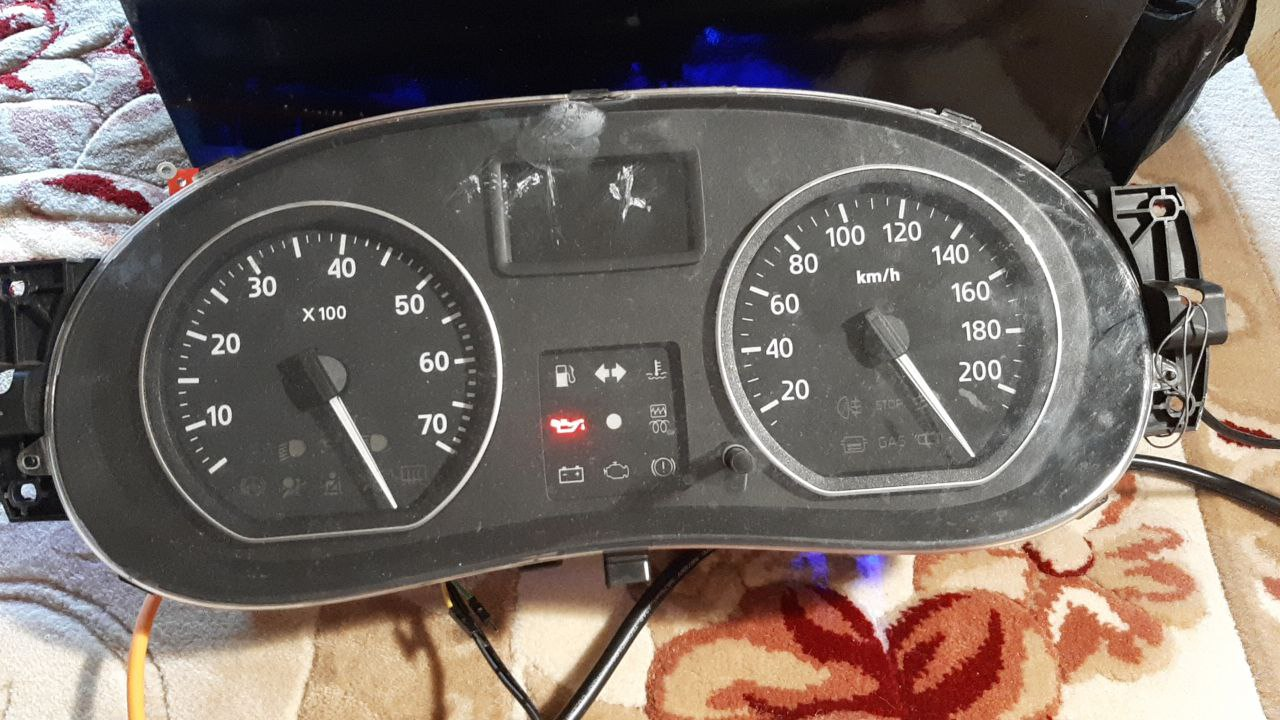oil: (541, 411, 590, 440)
